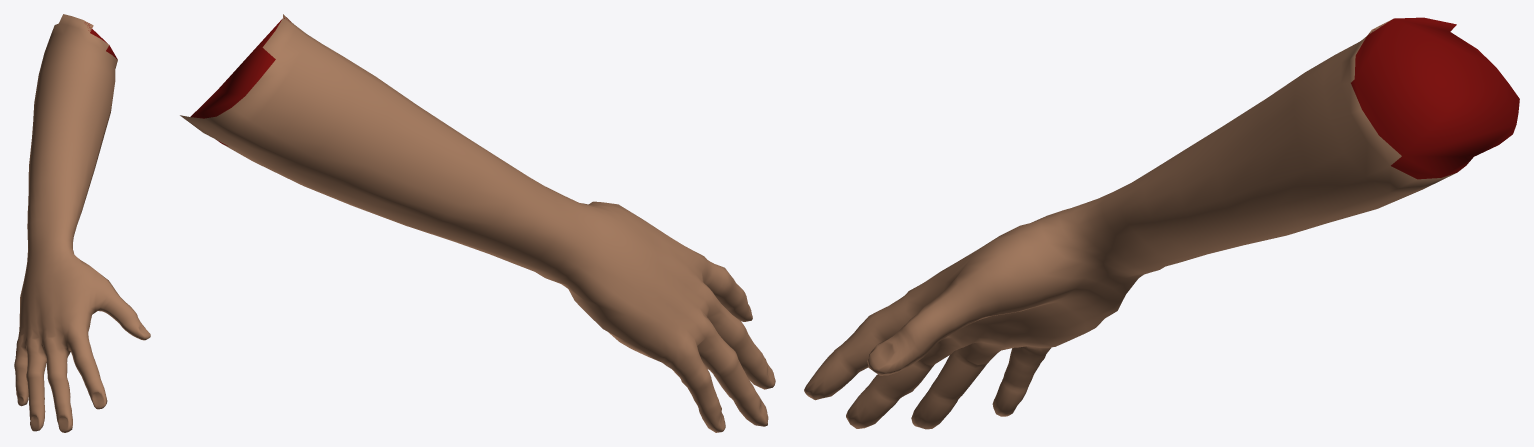
The model's file is SM_Part_F1_arm_r.gltf.
3 renders of one model, left to right at view 1: azimuth 30°, elevation 25°; view 2: azimuth 150°, elevation 25°; view 3: azimuth 270°, elevation 25°, orthographic. The views are drawn at different scales.
Visible parts, largest first — view 1: SM_Part_F1_arm_r; view 2: SM_Part_F1_arm_r; view 3: SM_Part_F1_arm_r.
Part boxes in pixels (x1,y1,x2,y2): SM_Part_F1_arm_r: (14,14,150,432); SM_Part_F1_arm_r: (180,14,775,432); SM_Part_F1_arm_r: (804,17,1519,429).
Size of the model in its own units: 0.1946 by 0.2585 by 0.2942.
